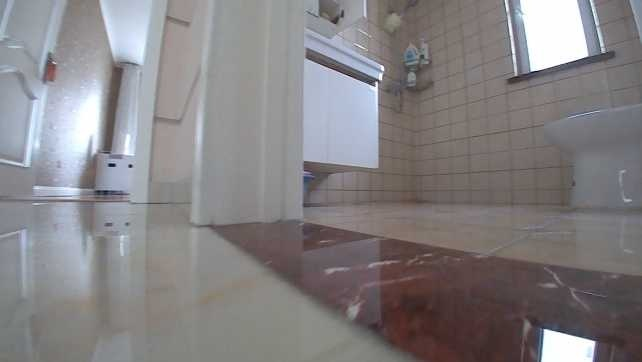door_anno: (0, 0, 69, 200)
toilet: (545, 103, 641, 211)
